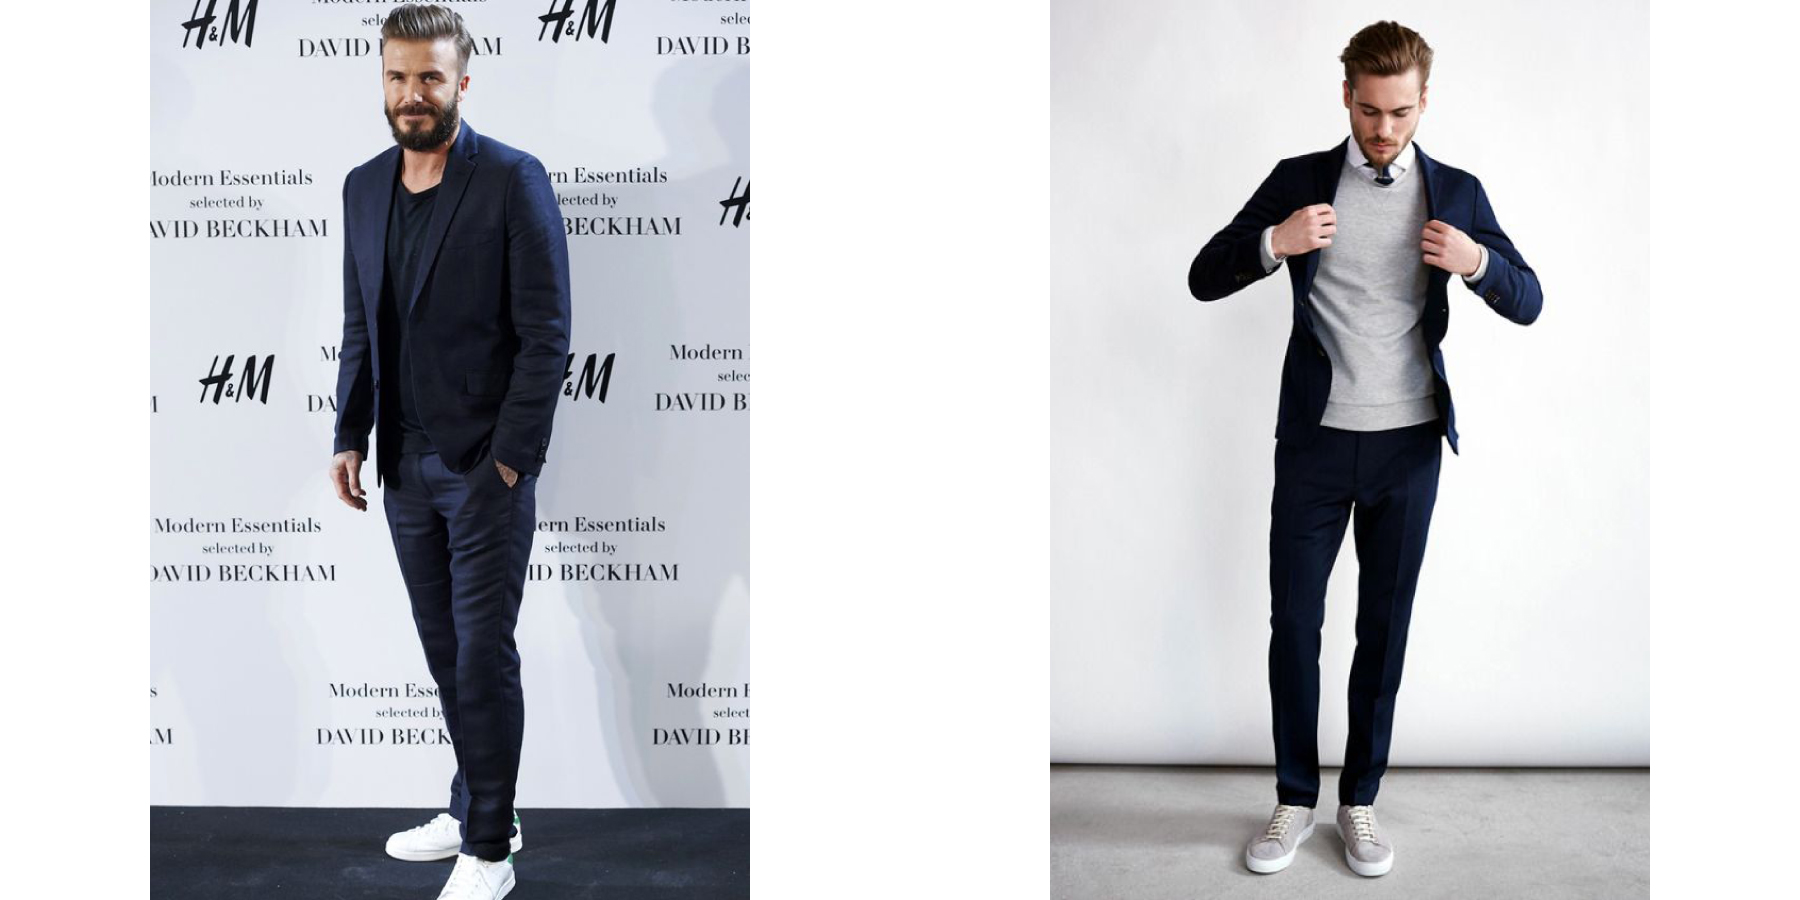NOTSAFE: (342, 3, 550, 488), (1279, 23, 1471, 492)
